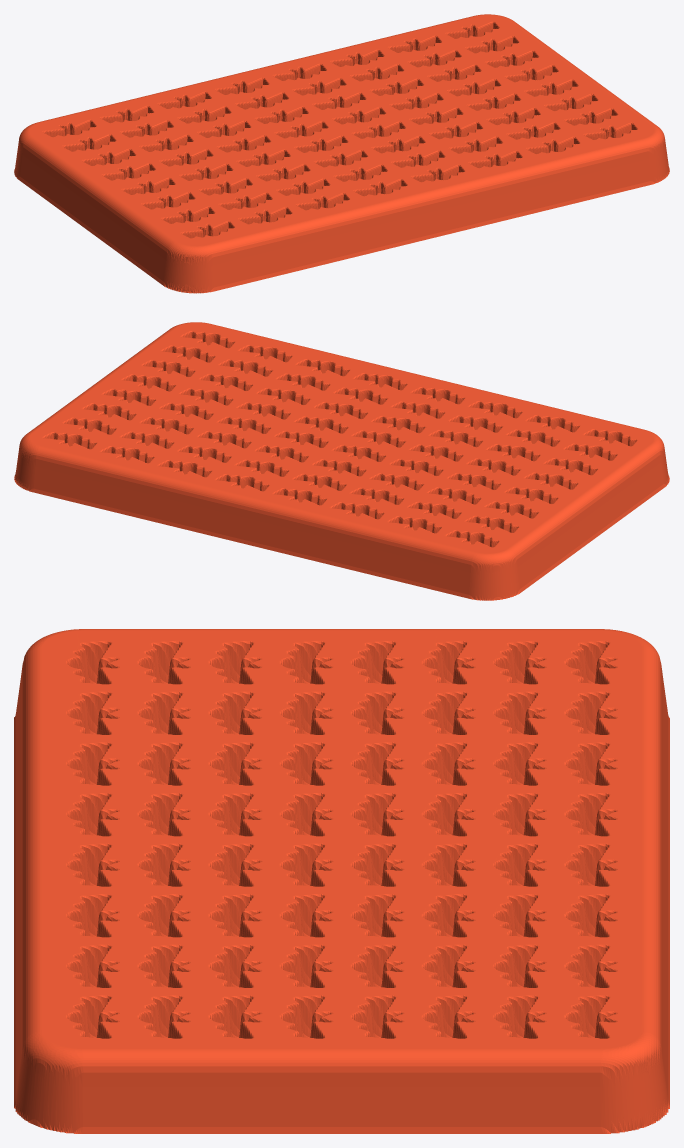
Rendered from mold.glb.
3 views of the same model, one above another, from view 1: azimuth 30°, elevation 25°; view 2: azimuth 150°, elevation 25°; view 3: azimuth 270°, elevation 25° (orthographic). The views are drawn at different scales.
Visible parts, largest first — view 1: geometry_0; view 2: geometry_0; view 3: geometry_0.
Part boxes in pixels (bbox=[...]): geometry_0: bbox=[14, 14, 669, 293]; geometry_0: bbox=[14, 322, 669, 600]; geometry_0: bbox=[14, 629, 669, 1133].
Size of the model in its own units: 0.1355 by 0.0105 by 0.0851.
